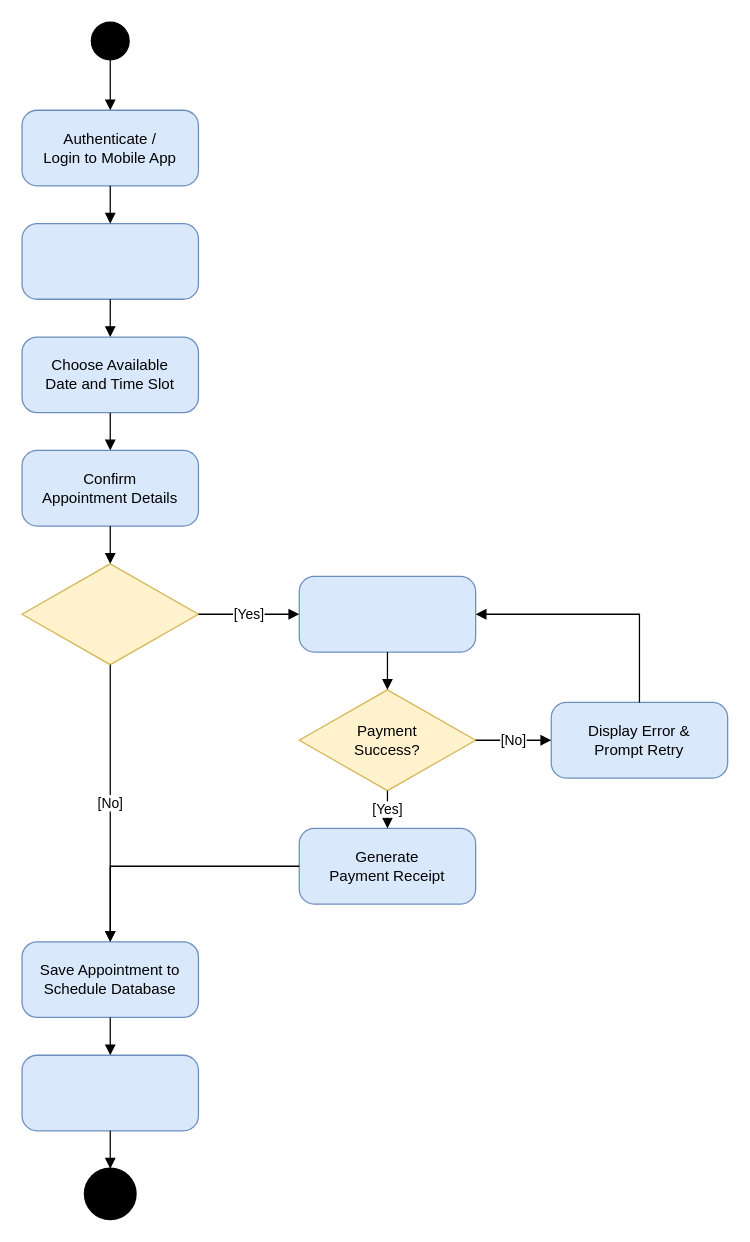
Image size: 750x1242. Some labels were removed from this diagram. Each missing label, with the centre of its shape:
Initiate Payment via telebirr Gateway: (387,613)
Payment Required?: (109,614)
Select 'Book Appointment' Service: (109,260)
Send SMS/Email Confirmation: (109,1092)
